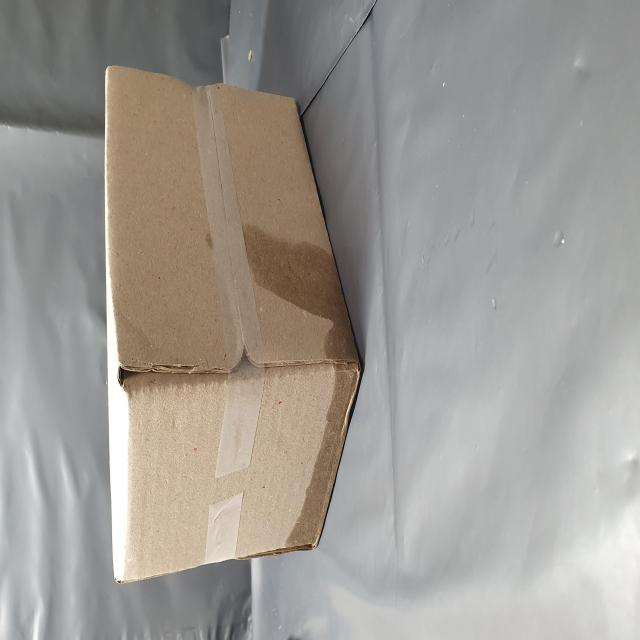wet: (45, 446, 243, 639)
